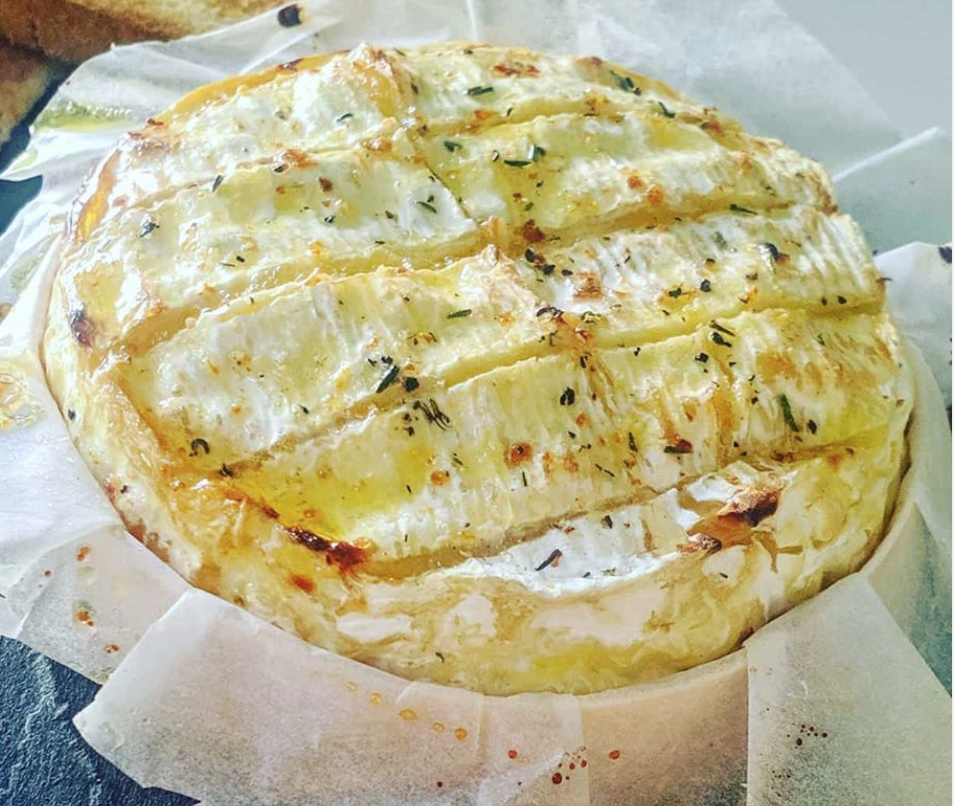camembert: (37, 41, 921, 709)
